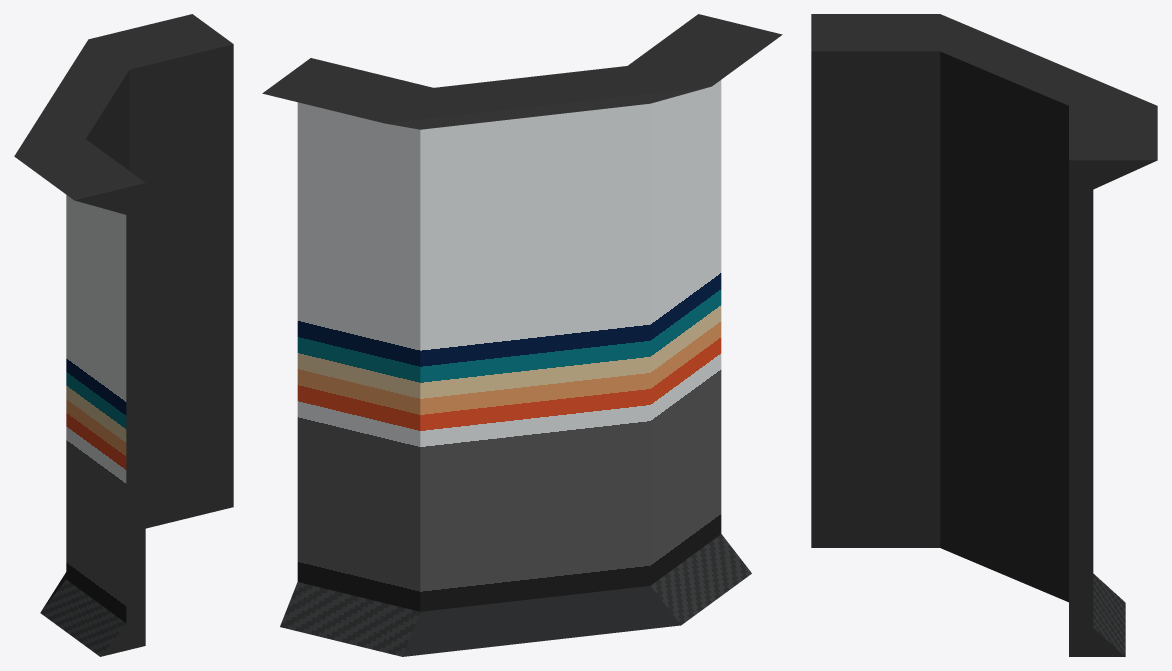
The model's file is CalShipWallCornerOut1.gltf.
3 renders of one model, left to right at view 1: azimuth 30°, elevation 25°; view 2: azimuth 150°, elevation 25°; view 3: azimuth 270°, elevation 25°, orthographic. The views are drawn at different scales.
Parts seen in each view (by area): view 1: mesh; view 2: mesh; view 3: mesh.
Part boxes in pixels (<box>): mesh: <box>14,14,233,656</box>; mesh: <box>262,14,782,656</box>; mesh: <box>811,14,1157,656</box>.
Bounding box in the file's own units: 1.34 × 2.12 × 1.34.
Materials: 1 (1 with a texture image).
